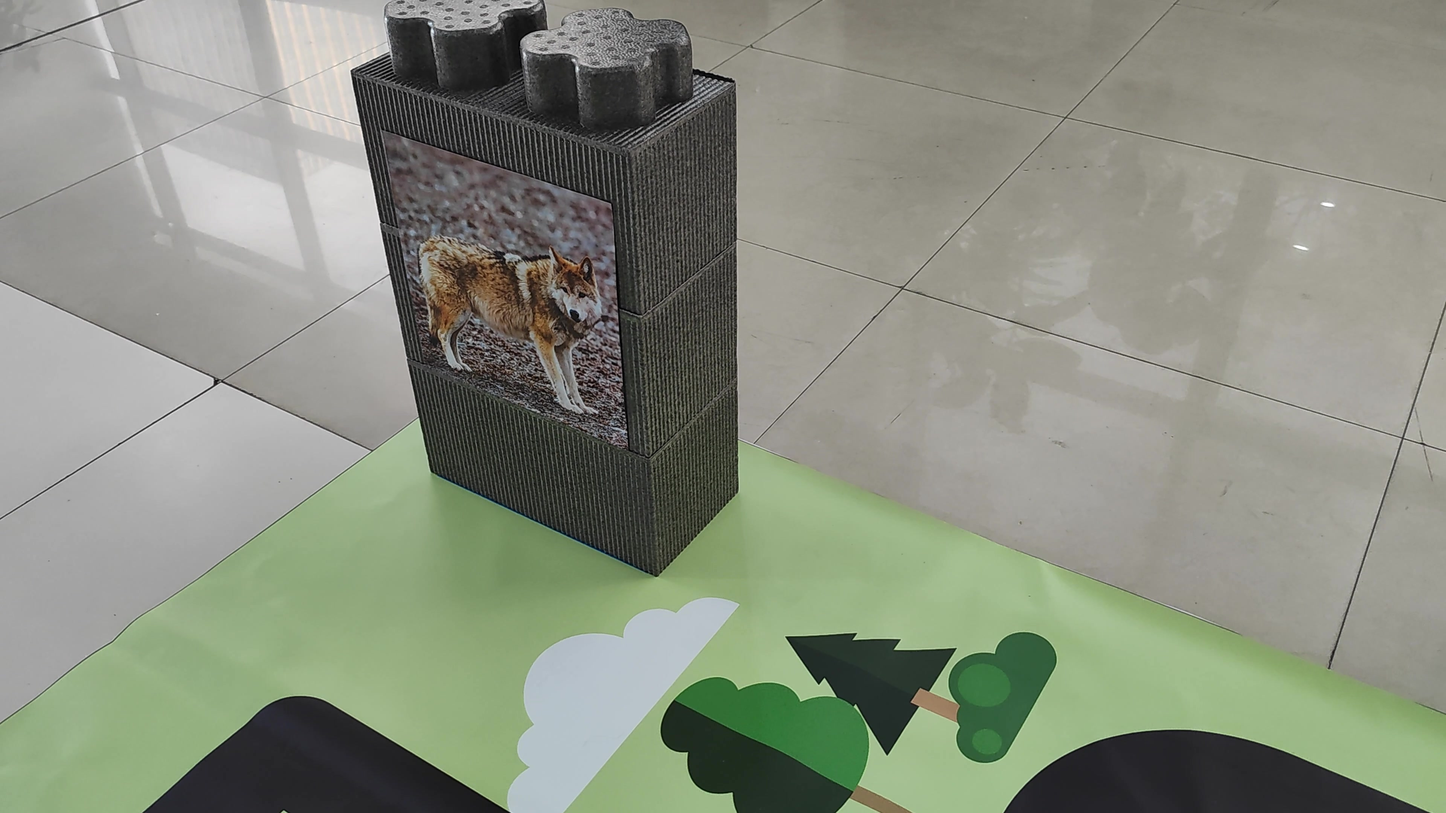wolf: (383, 172, 621, 405)
